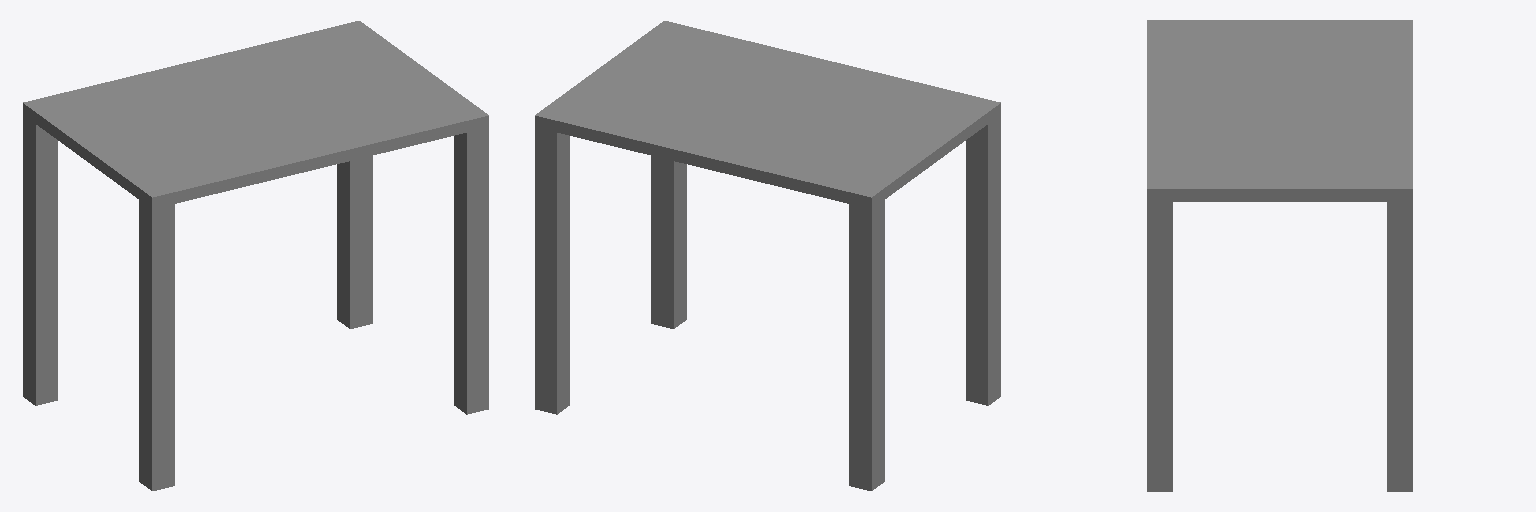
URDF robot description (simple_table):
<?xml version="1.0"?>
<robot name="simple_table">
  <link name="table_link">
    <visual>
      <geometry>
        <mesh filename="table.stl" scale="1 1 1"/>
      </geometry>
      <material name="gray">
        <color rgba="0.6 0.6 0.6 1.0"/>
      </material>
    </visual>

    <collision>
      <geometry>
        <mesh filename="table.stl" scale="1 1 1"/>
      </geometry>
    </collision>

    <inertial>
      <origin xyz="0 0 0" rpy="0 0 0"/>
      <mass value="1.0"/>
      <inertia ixx="0.083" ixy="0.0" ixz="0.0"
               iyy="0.083" iyz="0.0"
               izz="0.083"/>
    </inertial>
  </link>
</robot>

--- What the picture shows (computed from the rendered views, not written in the file) ---
3 views of the same robot in one strip: view 1: azimuth 30°, elevation 25°; view 2: azimuth 150°, elevation 25°; view 3: azimuth 270°, elevation 25° (orthographic).
Model simple_table with 1 links and 0 joints (none), rooted at table_link, posed every joint at zero.
Visible links, largest first — view 1: table_link; view 2: table_link; view 3: table_link.
Link boxes in pixels (x1,y1,x2,y2): table_link: [23, 21, 488, 490]; table_link: [535, 21, 1000, 490]; table_link: [1147, 20, 1412, 491].
Size in the robot's own frame: 1.5 by 1 by 1.25 metres.
Meshes: 1 distinct files referenced, 1 mesh visuals loaded (1 binary STL).
